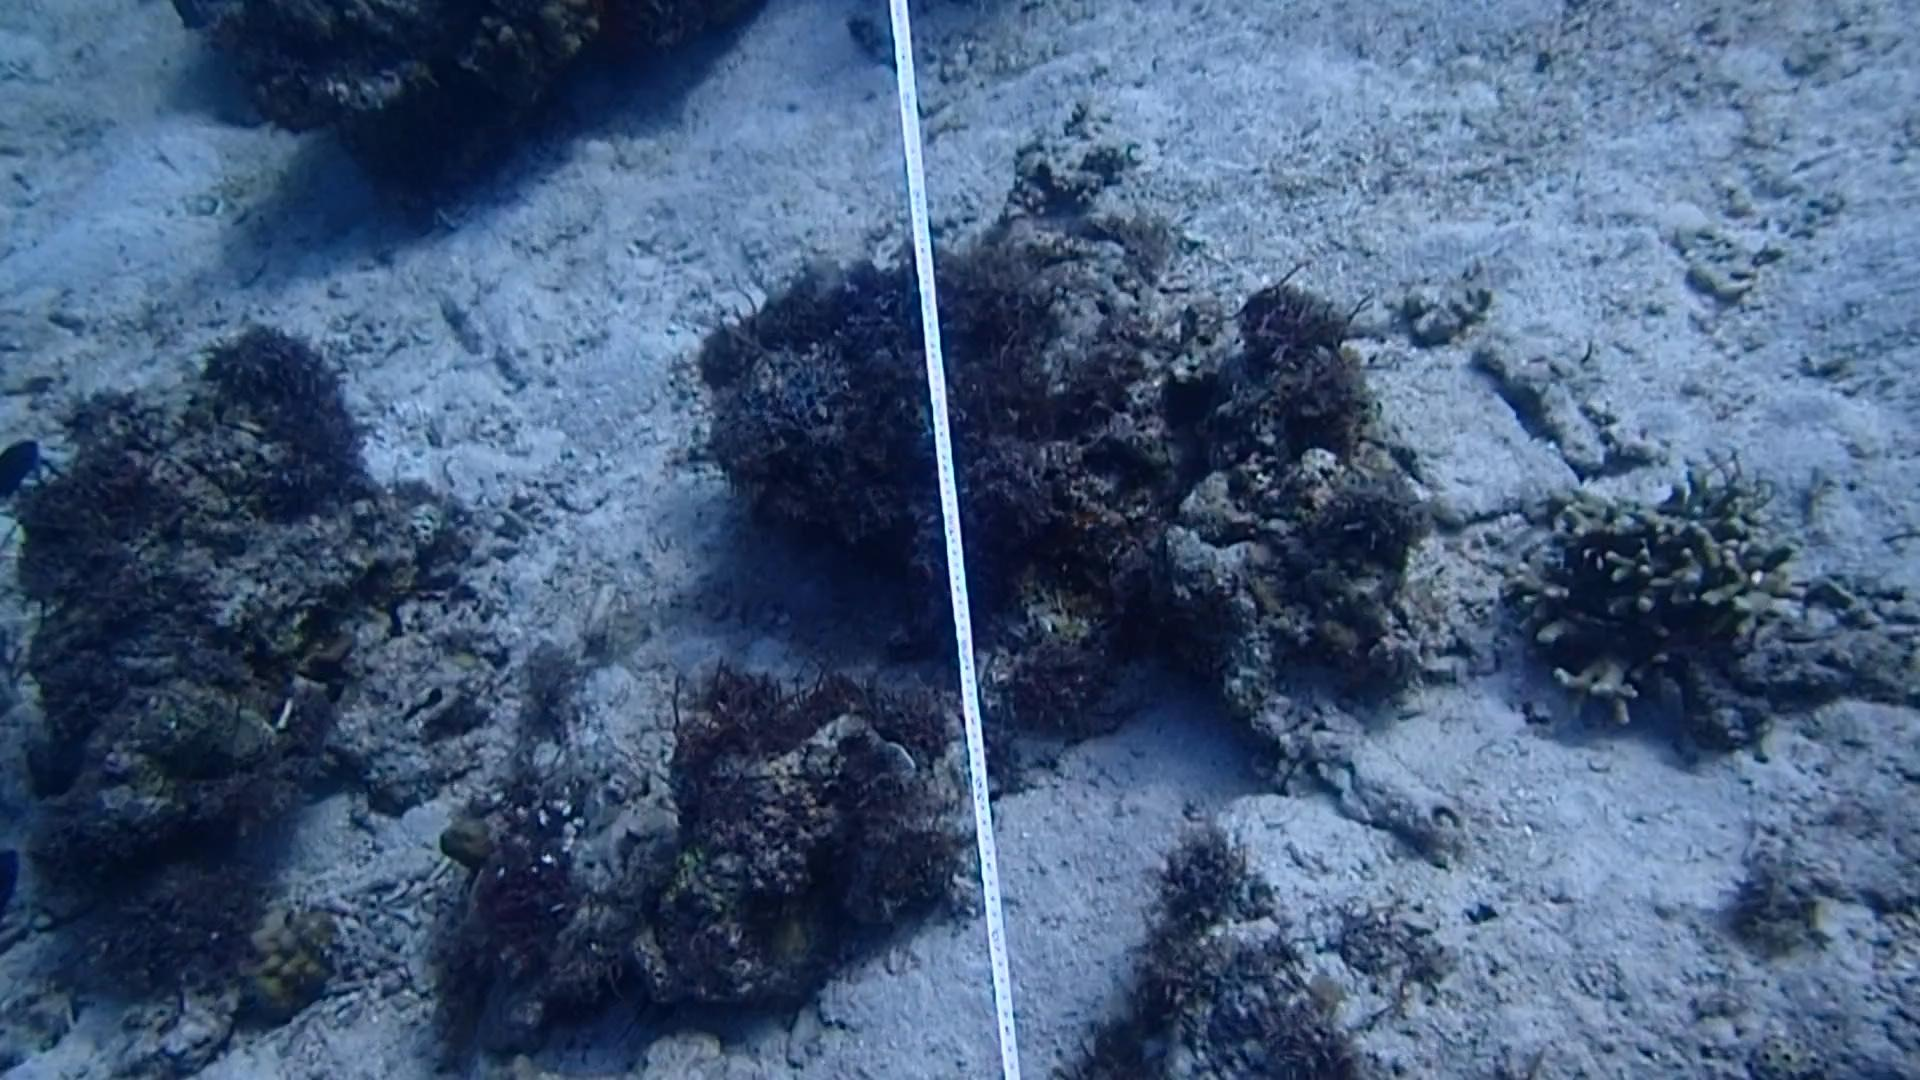Dark Fish: (0, 421, 46, 522)
